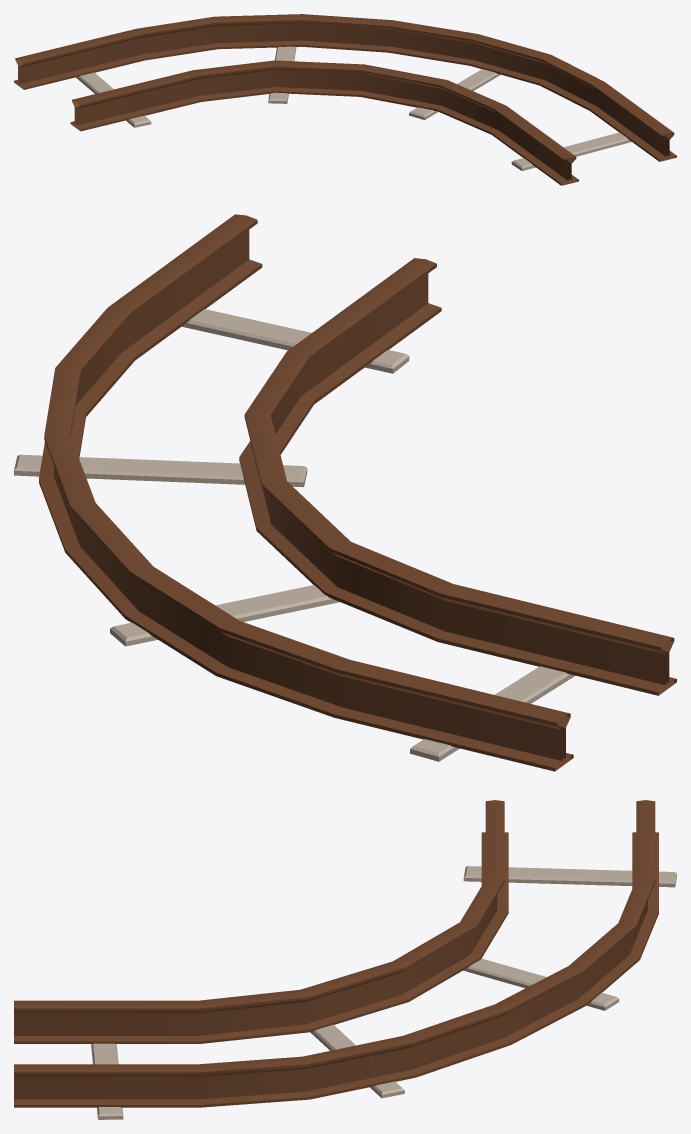
The model's file is SmallCurveRight_Track_V1.fbx.
3 renders of one model, top to bottom at view 1: azimuth 30°, elevation 25°; view 2: azimuth 150°, elevation 25°; view 3: azimuth 270°, elevation 25°, orthographic. The views are drawn at different scales.
Visible parts, largest first — view 1: Rail_Left_Small; view 2: Rail_Left_Small; view 3: Rail_Left_Small.
Boxes of the visible parts, bbox=[...] form: Rail_Left_Small: bbox=[14, 14, 676, 185]; Rail_Left_Small: bbox=[14, 214, 676, 771]; Rail_Left_Small: bbox=[14, 800, 676, 1119].
Size of the model in its own units: 357 by 23.67 by 357.
